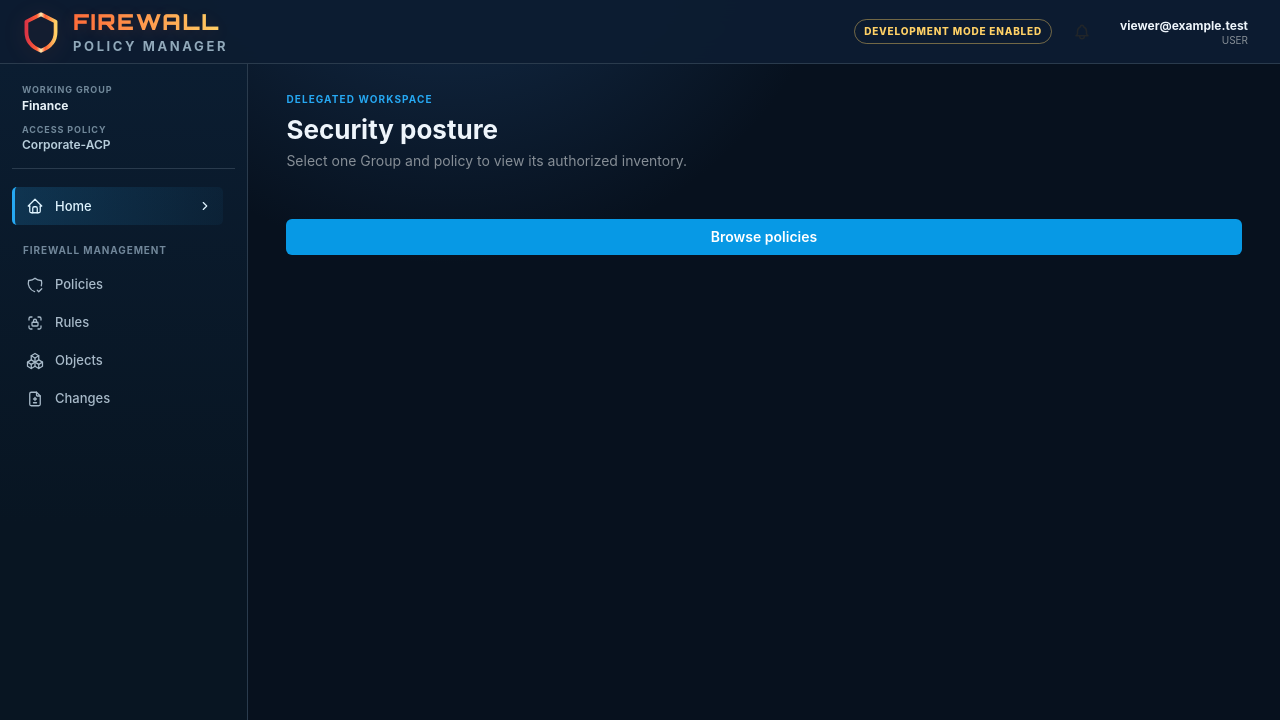
it: OverviewPage › clears prior entitlements and reloads when active Group changes
The width and height of the screenshot is (1280, 720).
What coordinates should you click on to do the following:
click the button "Objects"
I would click on:
 (118, 361)
Its box is [12,342,223,380].
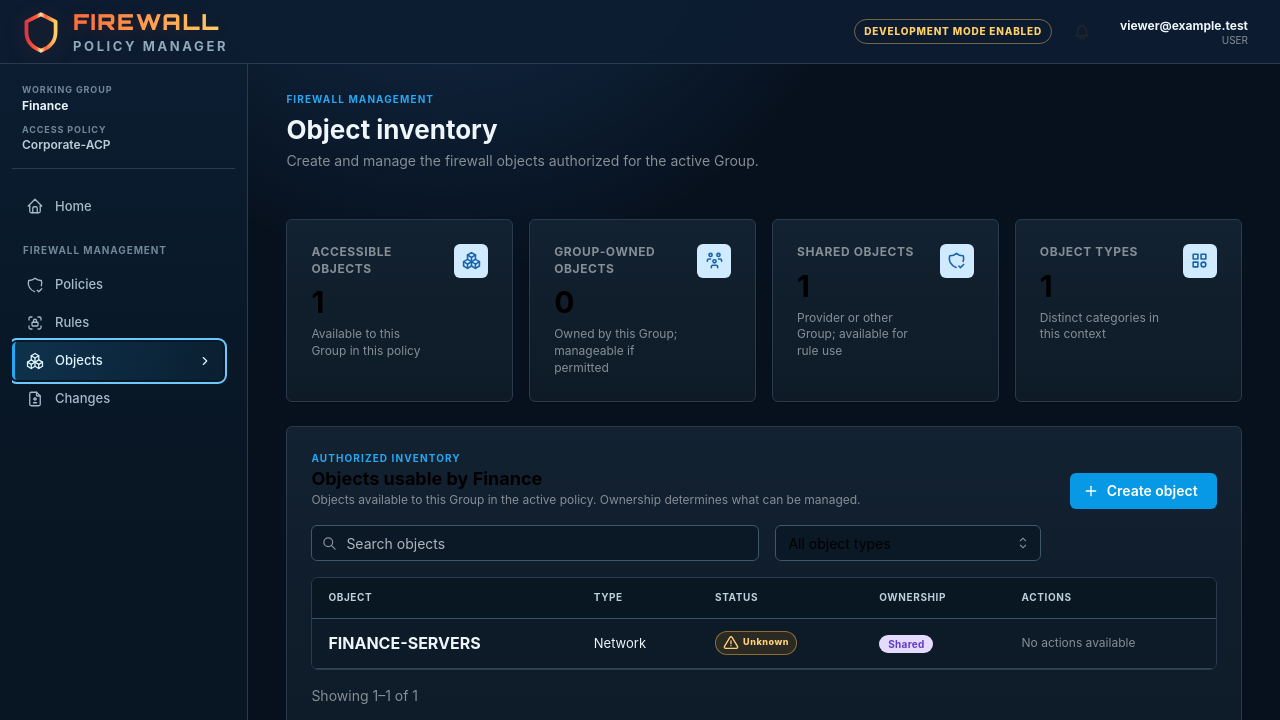
Result: the text "FINANCE-SERVERS" is shown at [328,633,481,653]
What coordinates should you click on to do the following:
click the button "Policies"
I would click on:
 (118, 285)
Its box is [12,266,223,304].
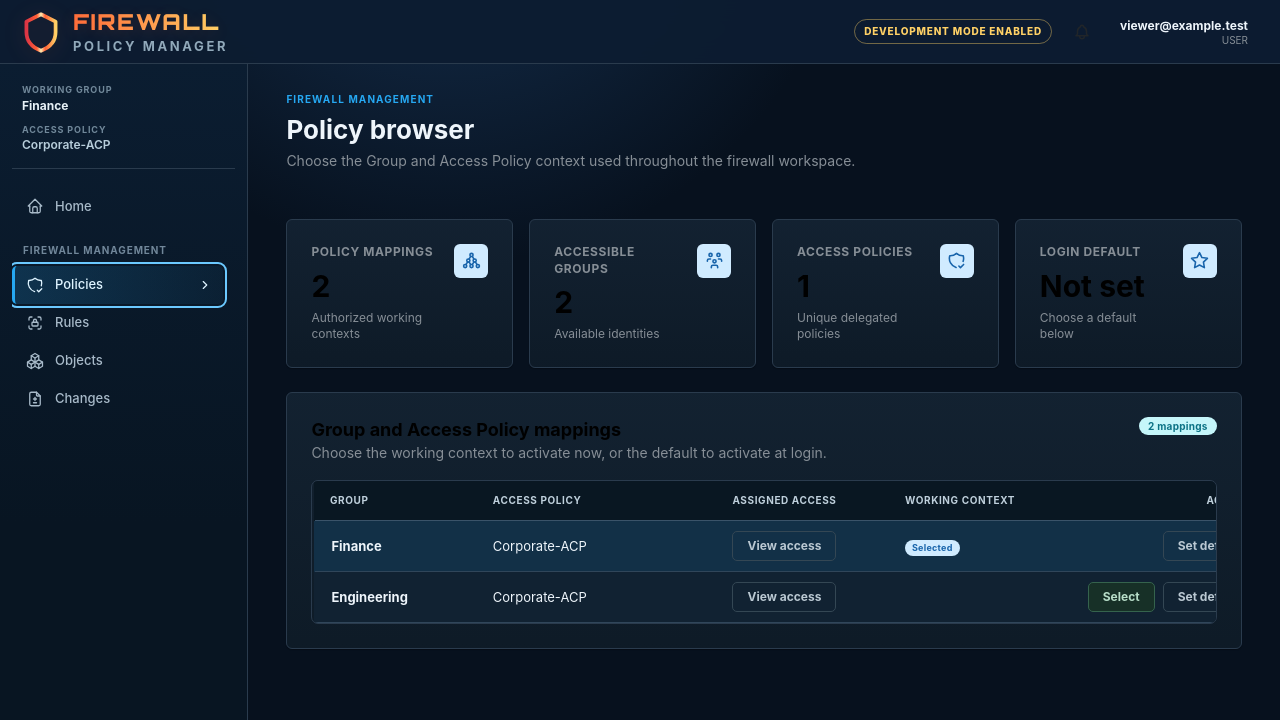
What coordinates should you click on to do the following:
click the button "Select"
I would click on:
 (1121, 597)
Its box is [1088,582,1155,612].
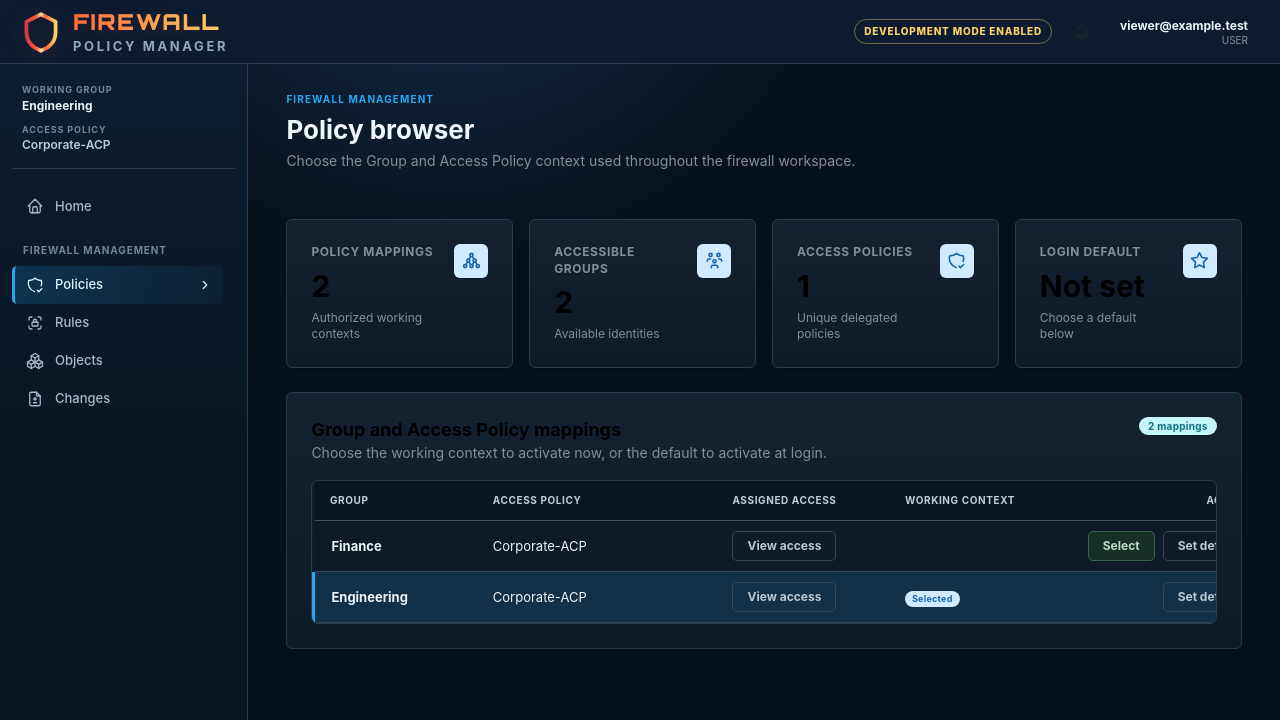
What coordinates should you click on to do the following:
click the button "Objects"
I would click on:
 (118, 361)
Its box is [12,342,223,380].
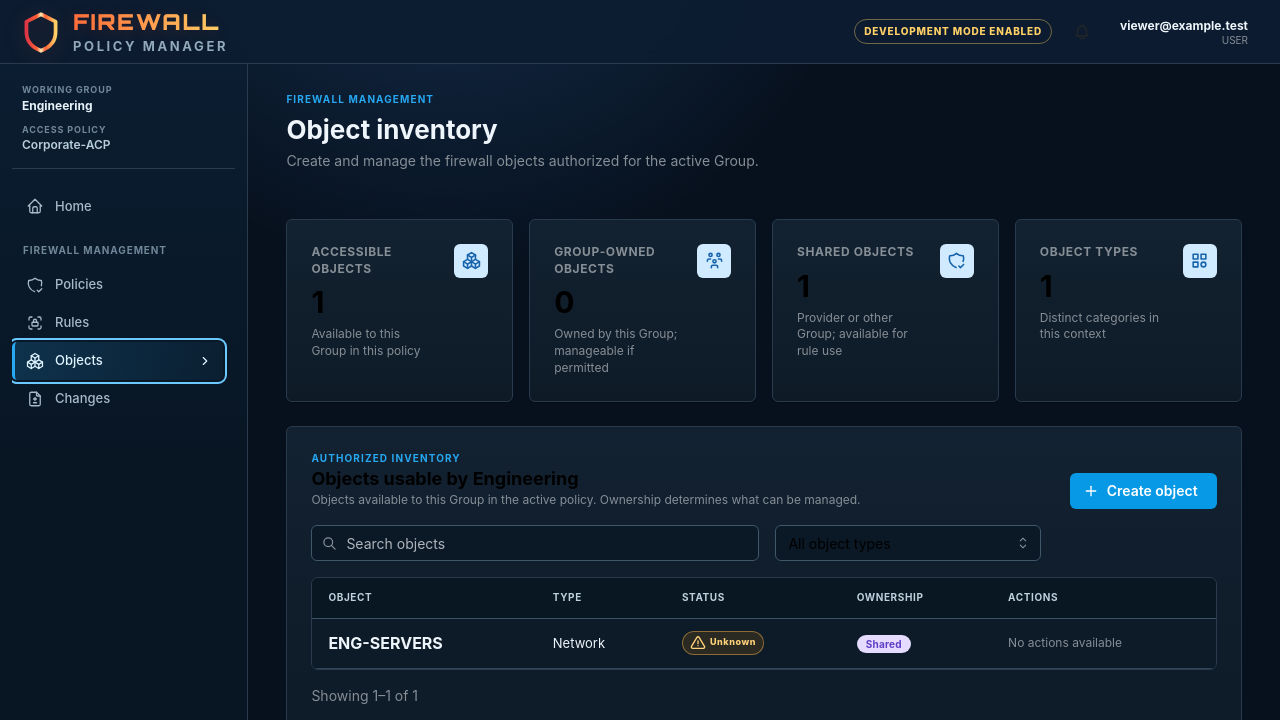
Expected: the text "FINANCE-SERVERS" is not shown
Result: the text "ENG-SERVERS" is shown at [328,633,443,653]
